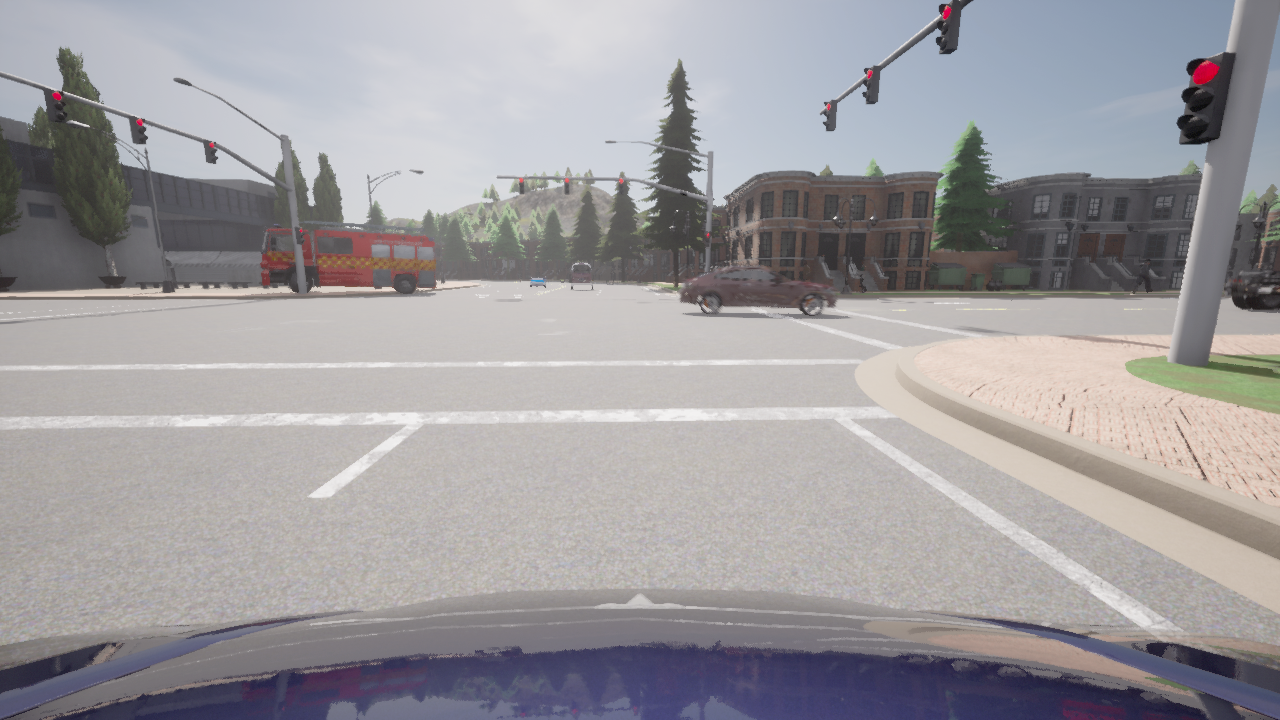cyclist: (0, 588, 1279, 719), (259, 220, 435, 293), (678, 265, 838, 316), (1223, 270, 1279, 310), (569, 262, 595, 289), (529, 271, 547, 288)
pedestrian: (1132, 260, 1152, 292), (857, 259, 866, 293), (800, 260, 811, 280)
